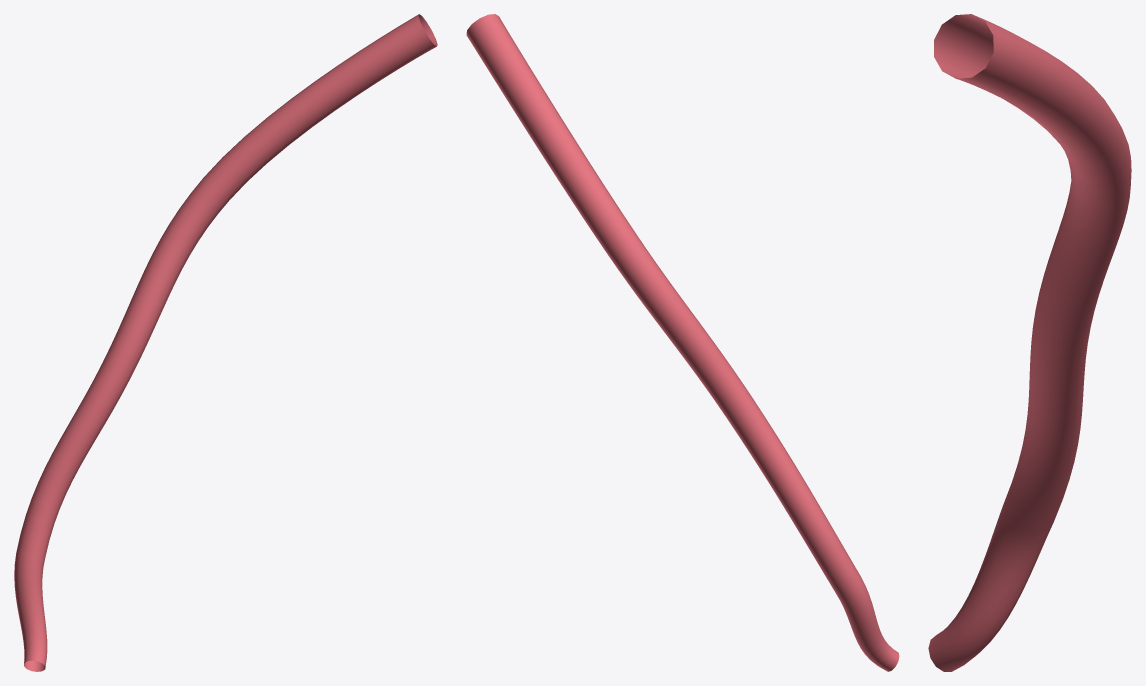
The picture shows the model from 3 angles, left to right: view 1: azimuth 30°, elevation 25°; view 2: azimuth 150°, elevation 25°; view 3: azimuth 270°, elevation 25°; orthographic projection. The views are drawn at different scales.
Visible parts, largest first — view 1: ZA_df1b442e40254201; view 2: ZA_df1b442e40254201; view 3: ZA_df1b442e40254201.
Boxes of the visible parts, bbox=[...] form: ZA_df1b442e40254201: bbox=[14, 14, 437, 671]; ZA_df1b442e40254201: bbox=[466, 14, 899, 671]; ZA_df1b442e40254201: bbox=[928, 14, 1131, 671].
Bounding box in the file's own units: 0.0387 × 0.0493 × 0.00913.
